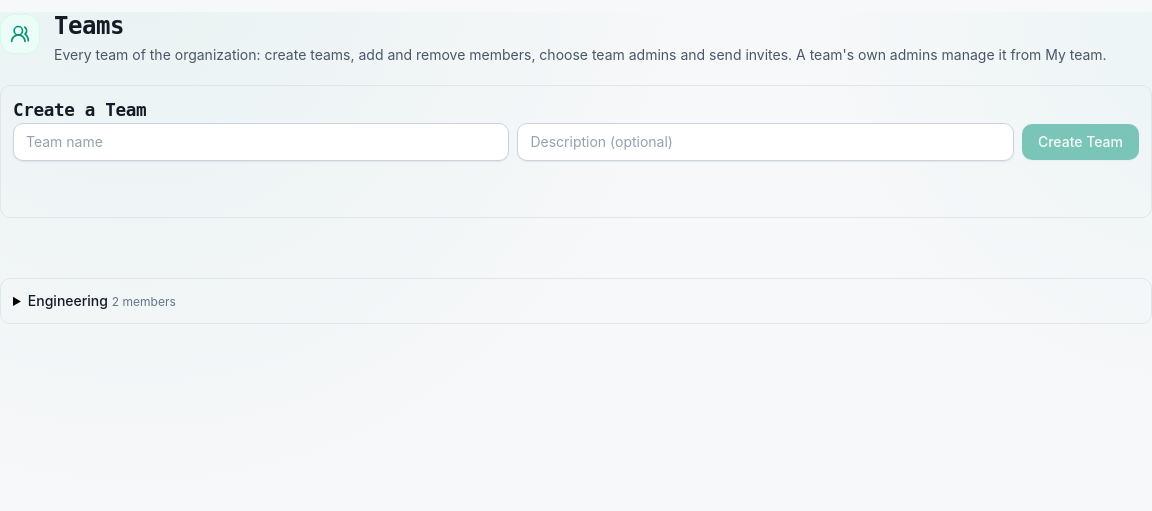
TeamsPage › a plain member only sees a Leave button for their own row
Click the text "Engineering".
click(68, 300)  # box [28, 292, 108, 309]
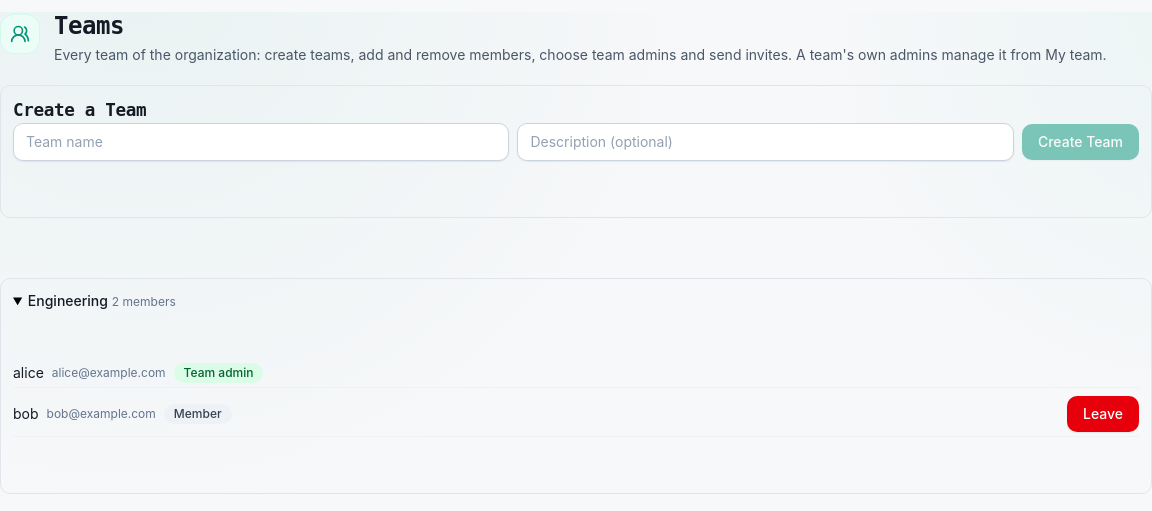
Expected: the text "bob" is shown, [13, 404, 38, 424]
Expected: the button "Leave" is shown, [1067, 396, 1139, 432]
